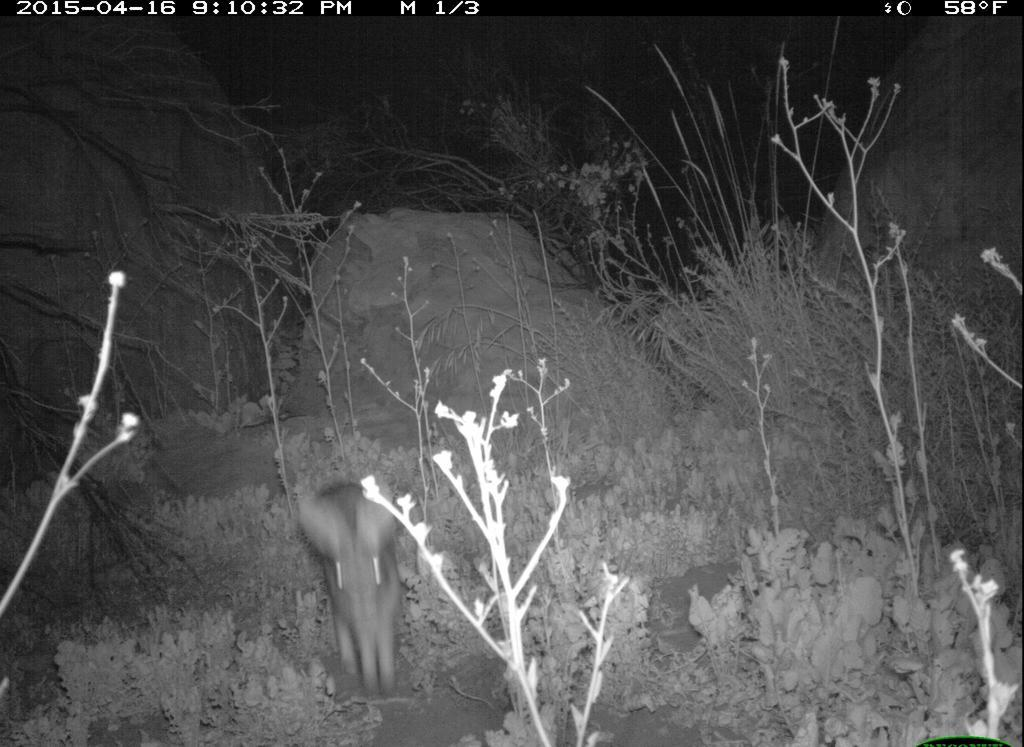rabbit: (286, 470, 423, 706)
